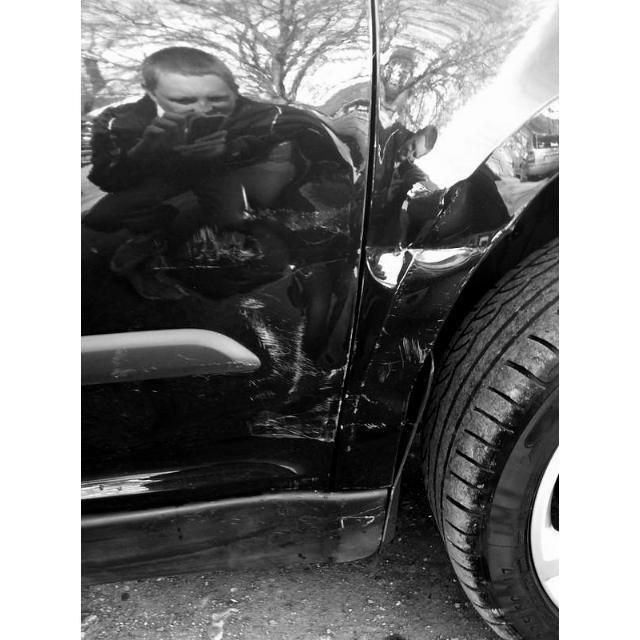doorouter-dent: (111, 74, 358, 547)
quaterpanel-dent: (368, 15, 556, 408)
